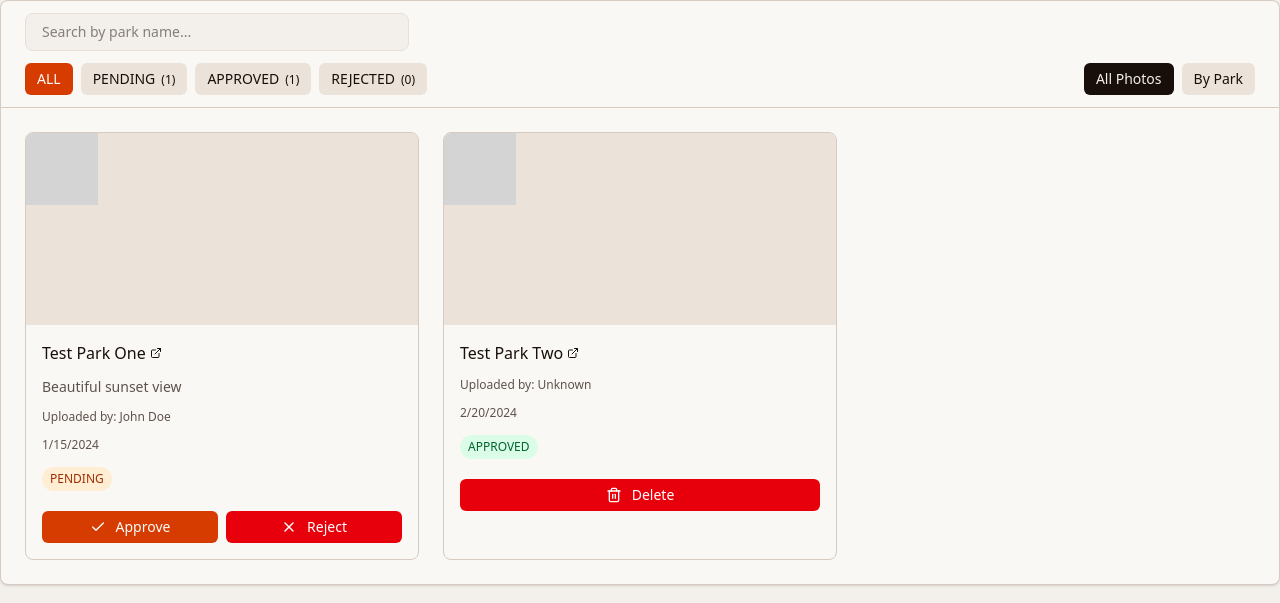
Test: PhotoModerationTable › should show "No photos found" when filter has no matches
# Click REJECTED filter tab
Click the button "REJECTED(0)" at (373, 79), box [319, 63, 427, 95]
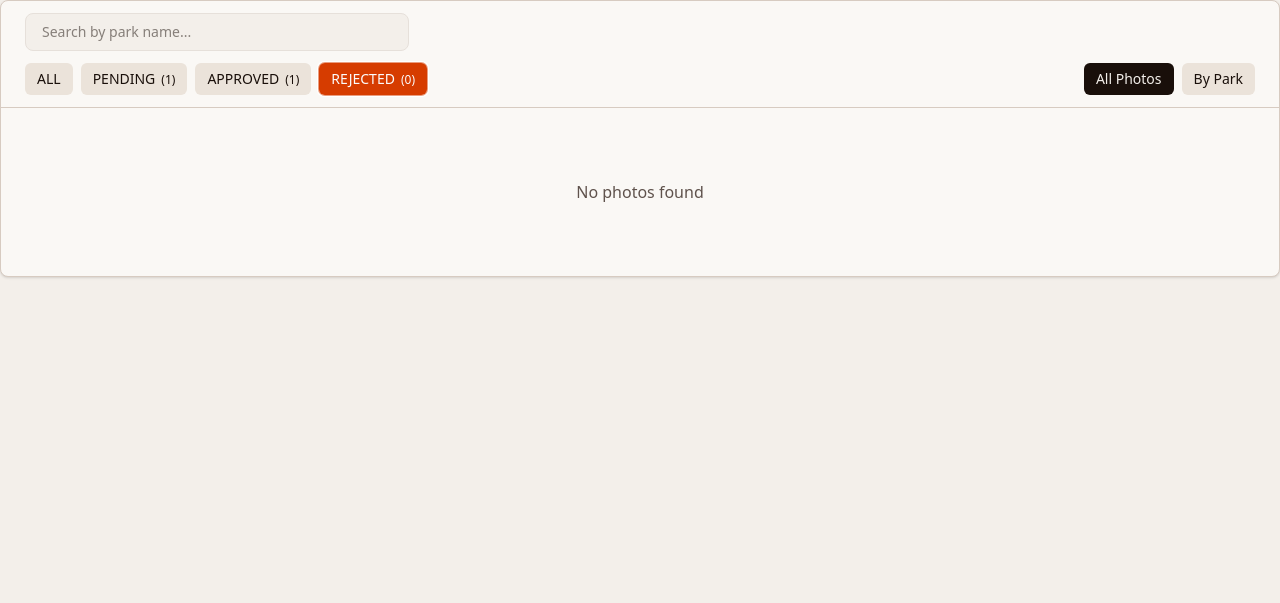
Now the text "No photos found" is shown, box [576, 181, 704, 203]
